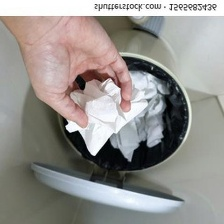tissue: (60, 73, 152, 160), (105, 88, 171, 167)
